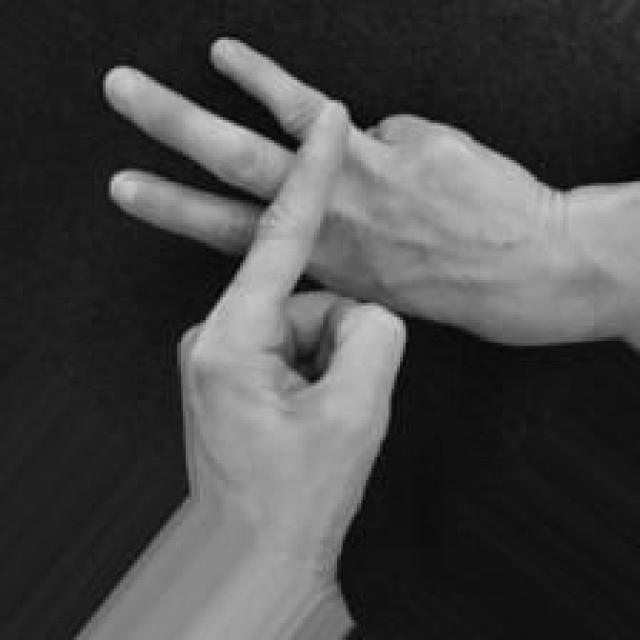E: (87, 26, 565, 513)
